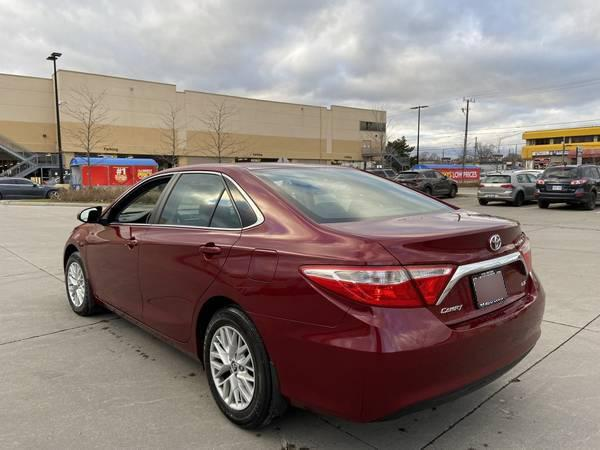Front_Left_Door: (84, 222, 145, 329)
Front_Left_Window: (98, 172, 176, 224)
Left_Taillight: (297, 262, 455, 307)
Rear_Bumper: (245, 267, 542, 420)
Rear_Fender: (208, 171, 399, 322)
Rear_Left_Door: (137, 224, 242, 346)
Rear_Left_Window: (150, 172, 240, 228)
Rear_Windshield: (243, 165, 452, 224)
Roof: (96, 161, 327, 229)
Tailgate: (327, 205, 531, 322)
Wheel: (197, 307, 273, 432), (66, 255, 86, 311)
